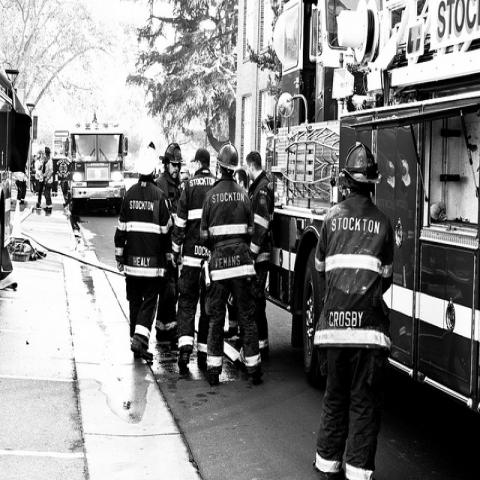truck: (266, 1, 480, 423), (65, 132, 128, 204)
